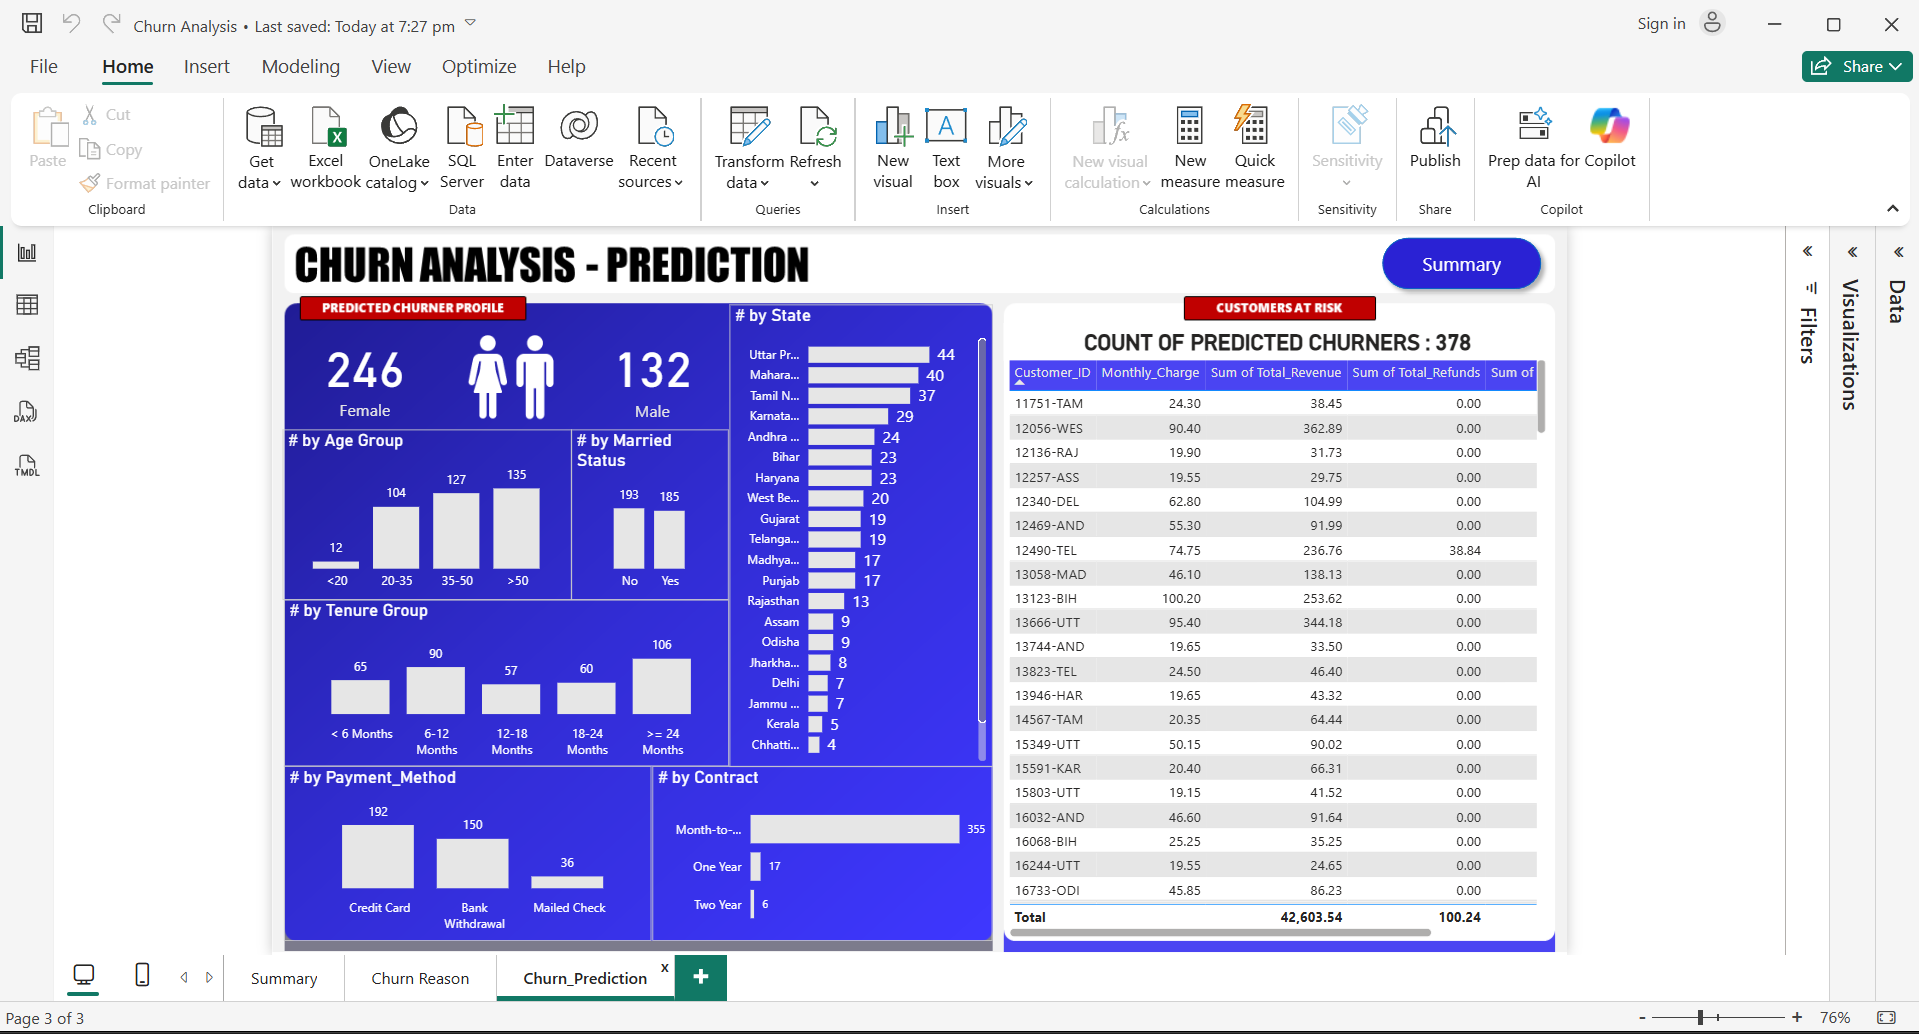

What the dashboard file says about the page in this screenshot:
{"tool":"powerbi","page":{"name":"Churn_Prediction ","canvas":[1280,720],"ordinal":2},"visuals":[{"type":"image","box":[171.9,96.2,127.5,105],"z":0},{"type":"tableEx","fields":{"Values":["Predicated.Customer_ID","Predicated.Monthly_Charge","Sum(Predicated.Total_Revenue)","Sum(Predicated.Total_Refunds)","Sum(Predicated.Number_of_Referrals)"]},"box":[722.9,125.7,541.4,581.4],"z":1000},{"type":"card","fields":{"Values":["tbl_Measures.Title Predicted Churner"]},"box":[722.9,95.7,541.4,37.1],"z":2000},{"type":"card","fields":{"Values":["tbl_Measures.Count Predicted Churner"]},"box":[12.3,93.8,159.6,106.9],"z":3000},{"type":"card","fields":{"Values":["tbl_Measures.Count Predicted Churner"]},"box":[299.5,93.8,152.1,107.7],"z":4000},{"type":"clusteredColumnChart","fields":{"Category":["mapping_Age_Grp.Age Group"],"Y":["CountNonNull(Predicated.Customer_ID)"]},"box":[10,200.7,285.7,168.6],"z":5000},{"type":"clusteredColumnChart","fields":{"Category":["Predicated.Married"],"Y":["CountNonNull(Predicated.Customer_ID)"]},"box":[295.7,200.7,155.7,168.6],"z":6000},{"type":"clusteredColumnChart","fields":{"Y":["CountNonNull(Predicated.Customer_ID)"],"Category":["mapping_TenureGrp.Tenure Group"]},"box":[11.4,369.3,440,165],"z":7000},{"type":"clusteredColumnChart","fields":{"Y":["CountNonNull(Predicated.Customer_ID)"],"Category":["Predicated.Payment_Method"]},"box":[11.4,534.3,362.9,172.9],"z":8000},{"type":"clusteredBarChart","fields":{"Category":["Predicated.Contract"],"Y":["CountNonNull(Predicated.Customer_ID)"]},"box":[375.7,534.3,335.7,172.9],"z":9000},{"type":"clusteredBarChart","fields":{"Y":["CountNonNull(Predicated.Customer_ID)"],"Category":["Predicated.State"]},"box":[451.7,77.5,260,457.5],"z":10000},{"type":"shape","box":[1088.8,2.5,175,68.7],"z":11000}]}

Visuals, with their boxes on the page's 1280x720 design canvas (x1, y1, x2, y2). These are canvas units, not pixel positions in the 1919x1034 screenshot, which may show the page scaled, cropped or inside an application window:
image: detection(172, 96, 299, 201)
tableEx - Predicated.Customer_ID x Predicated.Monthly_Charge: detection(723, 126, 1264, 707)
card - tbl_Measures.Title Predicted Churner: detection(723, 96, 1264, 133)
card - tbl_Measures.Count Predicted Churner: detection(12, 94, 172, 201)
card - tbl_Measures.Count Predicted Churner: detection(300, 94, 452, 202)
clusteredColumnChart - mapping_Age_Grp.Age Group x CountNonNull(Predicated.Customer_ID): detection(10, 201, 296, 369)
clusteredColumnChart - Predicated.Married x CountNonNull(Predicated.Customer_ID): detection(296, 201, 451, 369)
clusteredColumnChart - CountNonNull(Predicated.Customer_ID) x mapping_TenureGrp.Tenure Group: detection(11, 369, 451, 534)
clusteredColumnChart - CountNonNull(Predicated.Customer_ID) x Predicated.Payment_Method: detection(11, 534, 374, 707)
clusteredBarChart - Predicated.Contract x CountNonNull(Predicated.Customer_ID): detection(376, 534, 711, 707)
clusteredBarChart - CountNonNull(Predicated.Customer_ID) x Predicated.State: detection(452, 78, 712, 535)
shape: detection(1089, 2, 1264, 71)
